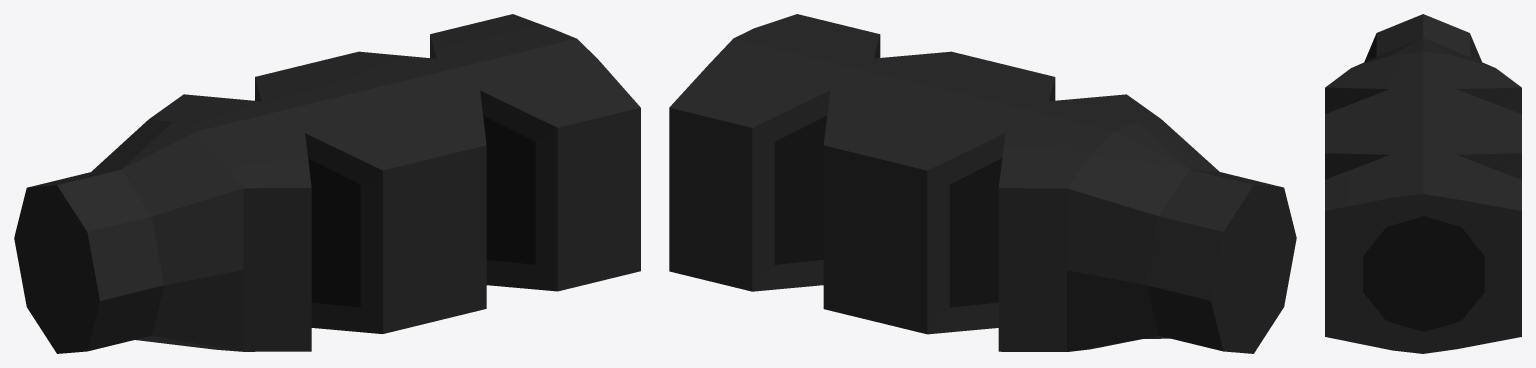
Rendered from Accesories_muzzlebrake_A_V1.FBX.
The picture shows the model from 3 angles, left to right: view 1: azimuth 30°, elevation 25°; view 2: azimuth 150°, elevation 25°; view 3: azimuth 270°, elevation 25°; orthographic projection. The views are drawn at different scales.
Parts seen in each view (by area): view 1: Accesories_muzzlebrake_A_V1; view 2: Accesories_muzzlebrake_A_V1; view 3: Accesories_muzzlebrake_A_V1.
Boxes of the visible parts, <box> form: Accesories_muzzlebrake_A_V1: <box>14,14,640,353</box>; Accesories_muzzlebrake_A_V1: <box>669,14,1296,353</box>; Accesories_muzzlebrake_A_V1: <box>1325,14,1521,353</box>.
Size of the model in its own units: 91.42 by 34.95 by 38.94.
